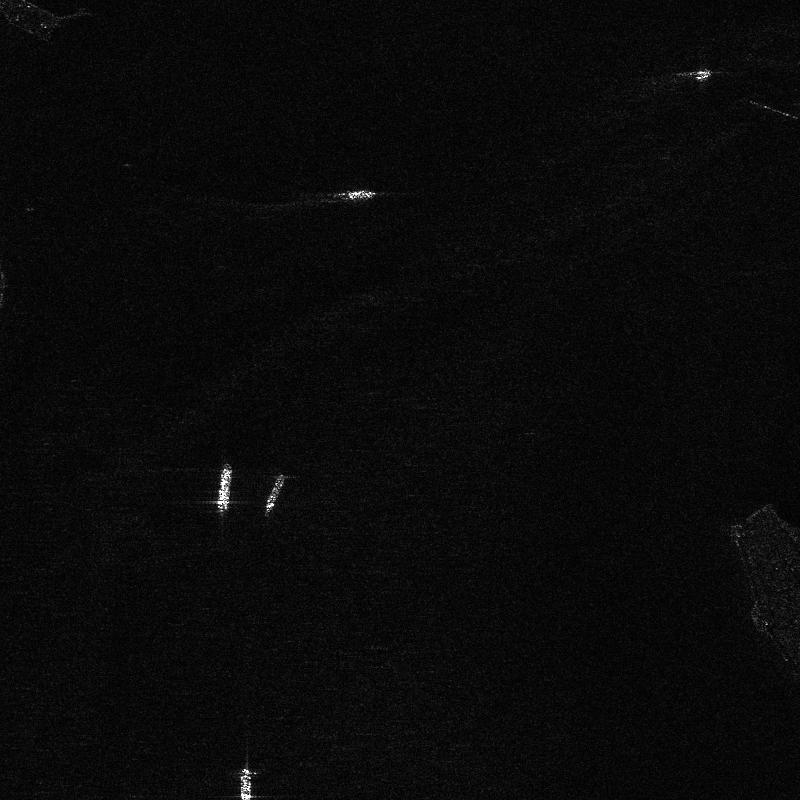ship: (265, 473, 285, 512), (217, 462, 232, 512), (239, 767, 251, 799), (347, 190, 375, 199), (689, 69, 713, 79)
